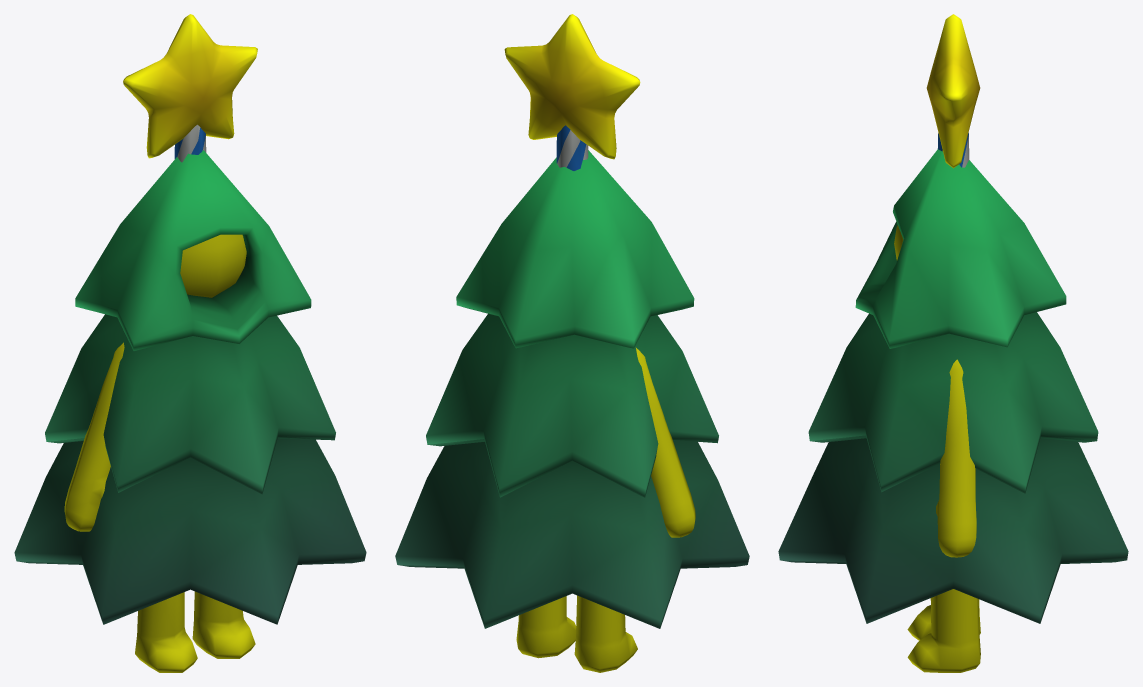
The model's file is Hero_Chrismas_Tree.fbx.
3 renders of one model, left to right at view 1: azimuth 30°, elevation 25°; view 2: azimuth 150°, elevation 25°; view 3: azimuth 270°, elevation 25°, orthographic.
Parts seen in each view (by area): view 1: Hero_christmas_tree; view 2: Hero_christmas_tree; view 3: Hero_christmas_tree.
Boxes of the visible parts, left/top/right/bottom form: Hero_christmas_tree: left=14, top=14, right=366, bottom=672; Hero_christmas_tree: left=395, top=14, right=749, bottom=672; Hero_christmas_tree: left=778, top=14, right=1128, bottom=672.
Bounding box in the file's own units: 124 × 285 × 142.
